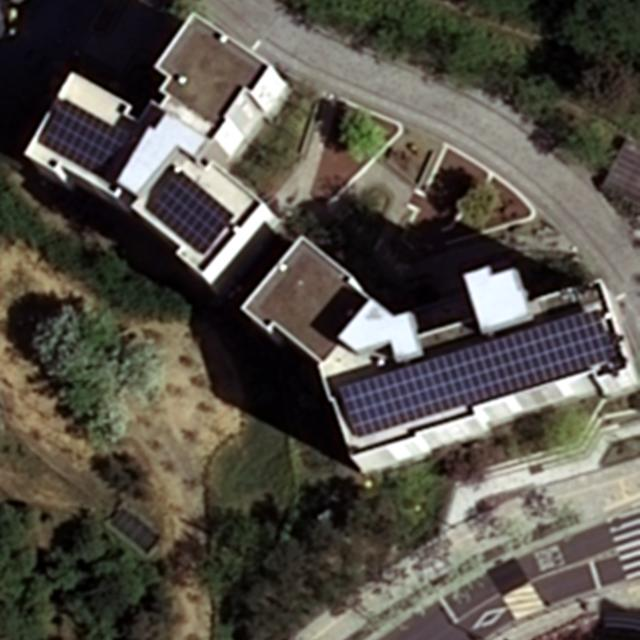solarpanel: (335, 308, 622, 443), (149, 170, 237, 256), (45, 98, 130, 175)
